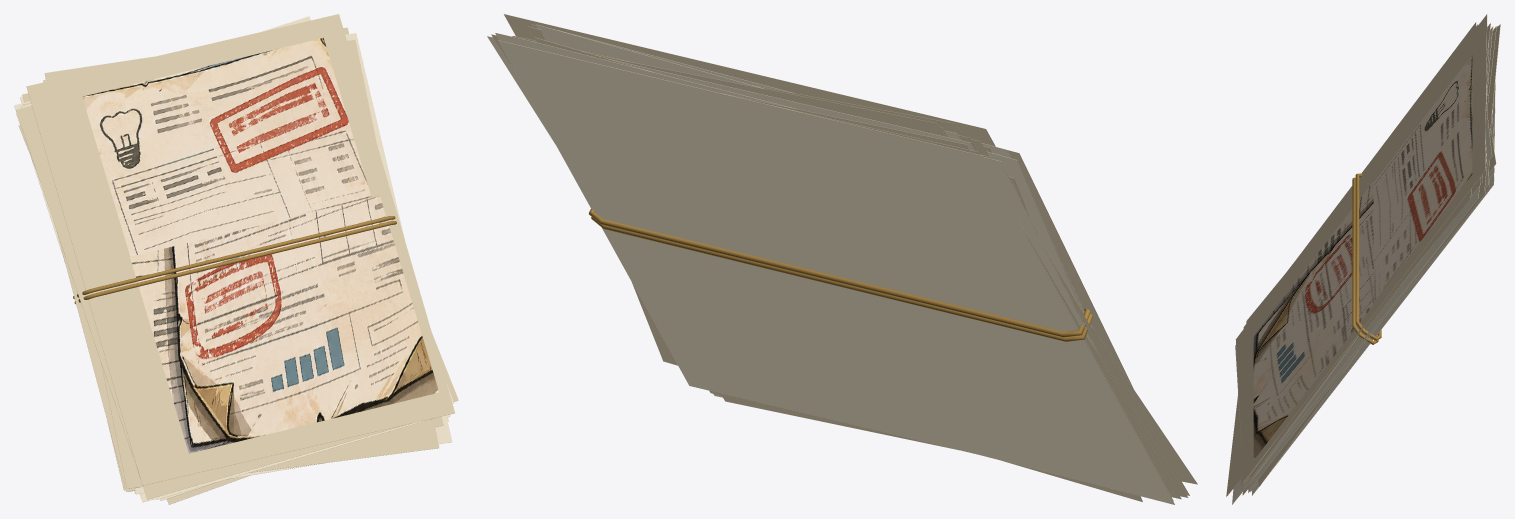
The model's file is unpaid_bills-default.glb.
3 views of the same model, side by side, from view 1: azimuth 30°, elevation 25°; view 2: azimuth 150°, elevation 25°; view 3: azimuth 270°, elevation 25° (orthographic). The views are drawn at different scales.
Parts seen in each view (by area): view 1: unpaid_bills-default__Accepted_bill_printing_texture, unpaid_bills-default__Warm_paper_cut_edge/back, unpaid_bills-default__Ochre_rubber_band, unpaid_bills-default__Lighter_paper_layers; view 2: unpaid_bills-default__Lighter_paper_layers, unpaid_bills-default__Warm_paper_cut_edge/back, unpaid_bills-default__Ochre_rubber_band; view 3: unpaid_bills-default__Accepted_bill_printing_texture, unpaid_bills-default__Warm_paper_cut_edge/back, unpaid_bills-default__Lighter_paper_layers, unpaid_bills-default__Ochre_rubber_band.
Part boxes in pixels (x1,y1,x2,y2): unpaid_bills-default__Accepted_bill_printing_texture: (82,38,439,453); unpaid_bills-default__Warm_paper_cut_edge/back: (16,14,458,504); unpaid_bills-default__Ochre_rubber_band: (73,216,396,304); unpaid_bills-default__Lighter_paper_layers: (14,16,453,502); unpaid_bills-default__Lighter_paper_layers: (487,24,1174,504); unpaid_bills-default__Warm_paper_cut_edge/back: (491,14,1197,501); unpaid_bills-default__Ochre_rubber_band: (589,209,1092,341); unpaid_bills-default__Accepted_bill_printing_texture: (1253,55,1472,459); unpaid_bills-default__Warm_paper_cut_edge/back: (1226,14,1500,496); unpaid_bills-default__Lighter_paper_layers: (1232,24,1495,504); unpaid_bills-default__Ochre_rubber_band: (1352,173,1381,344).
Size of the model in its own units: 0.1921 by 0.1815 by 0.131.
Materials: 4 (1 with a texture image).
